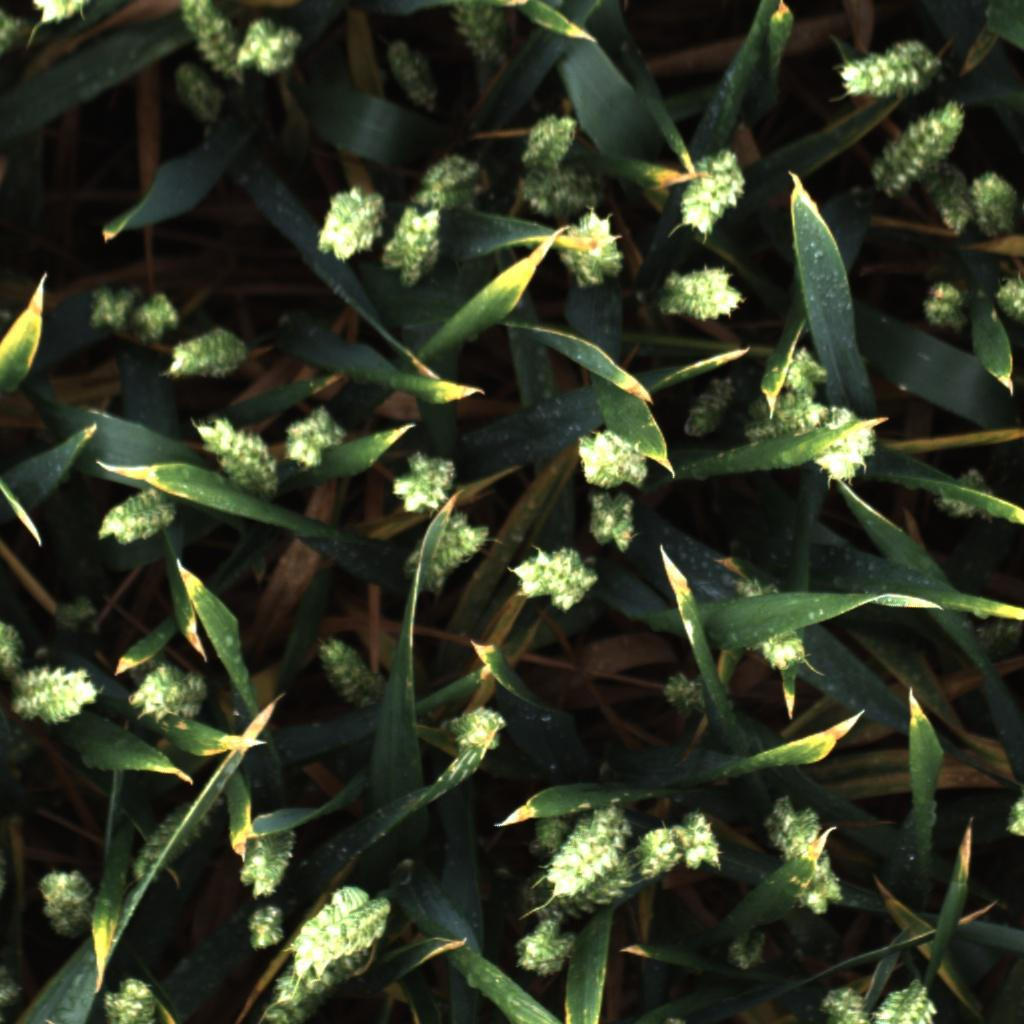0-0: (529, 819, 688, 933), (285, 875, 394, 981), (860, 97, 968, 195), (771, 794, 848, 917), (819, 30, 939, 105), (544, 799, 631, 901), (191, 413, 287, 501), (668, 140, 752, 239), (130, 793, 218, 885), (7, 657, 107, 734), (501, 546, 601, 620), (119, 655, 221, 727), (546, 206, 632, 291), (304, 179, 391, 263), (305, 624, 388, 709), (808, 404, 886, 492), (400, 512, 485, 591), (753, 350, 838, 428), (566, 420, 658, 492), (381, 200, 458, 286), (376, 29, 449, 118), (650, 260, 744, 328), (409, 147, 498, 215), (94, 481, 181, 550), (382, 449, 466, 519), (279, 395, 354, 472), (519, 160, 615, 218), (229, 823, 300, 897), (33, 862, 96, 944), (241, 12, 315, 81), (162, 58, 229, 134), (160, 331, 247, 388), (252, 963, 332, 1024), (509, 915, 584, 980), (576, 483, 644, 554), (514, 106, 591, 168), (674, 373, 737, 448), (934, 461, 1004, 527), (441, 698, 514, 760), (910, 273, 975, 341), (966, 167, 1024, 241), (754, 620, 825, 680), (923, 158, 974, 240), (166, 0, 232, 62), (452, 0, 509, 71), (656, 657, 715, 723), (94, 970, 163, 1024), (81, 271, 134, 341), (129, 286, 188, 348), (715, 920, 779, 975), (671, 807, 721, 876), (243, 894, 297, 956), (816, 975, 872, 1024), (857, 994, 938, 1024), (22, 0, 100, 27), (989, 271, 1024, 328), (0, 621, 30, 679), (0, 965, 29, 1024), (999, 785, 1022, 856)
